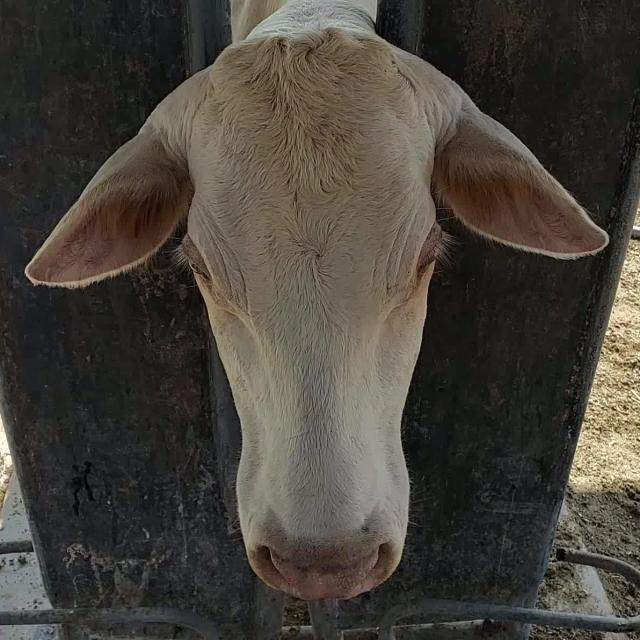cowFace: (176, 26, 434, 598)
